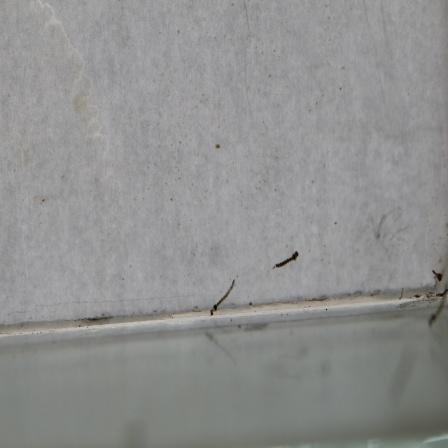Jentik-Nyamuk: (207, 275, 238, 320), (270, 248, 301, 273)
